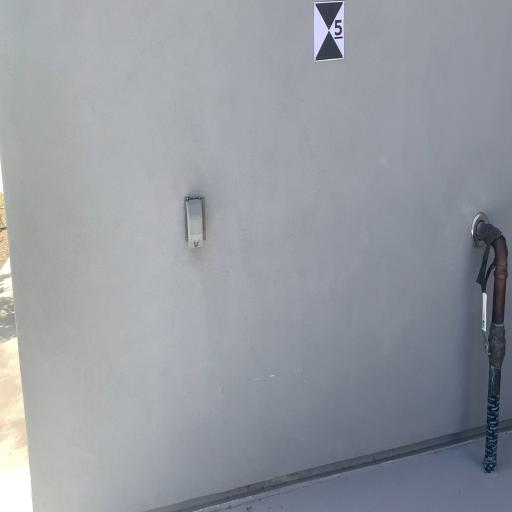target5: (314, 1, 344, 61)
